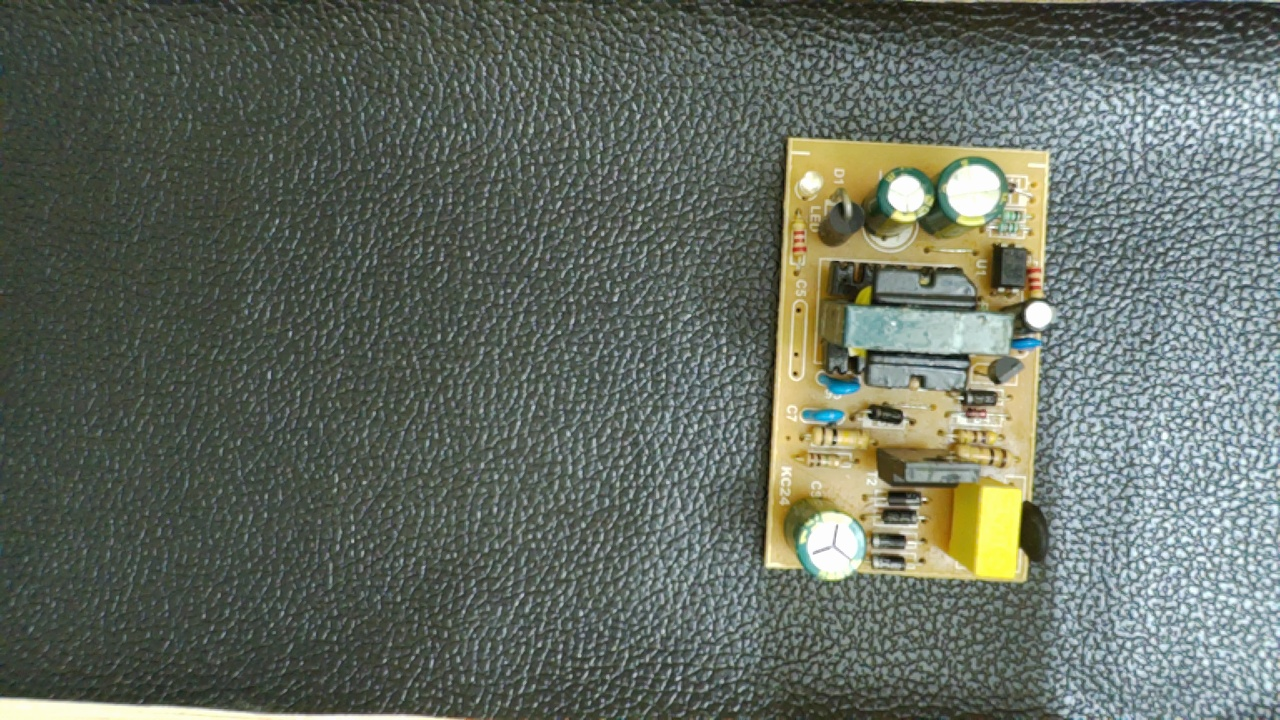fuse: (1010, 485, 1053, 569)
hv_capacitor: (780, 495, 869, 582)
optocoupler: (986, 237, 1031, 305)
